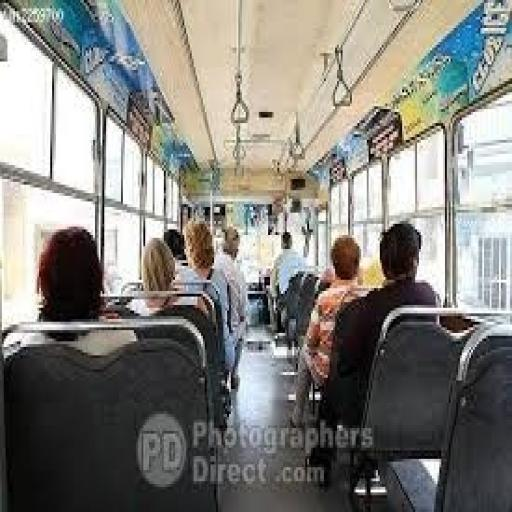sitting: (2, 224, 220, 509), (286, 232, 368, 428)
